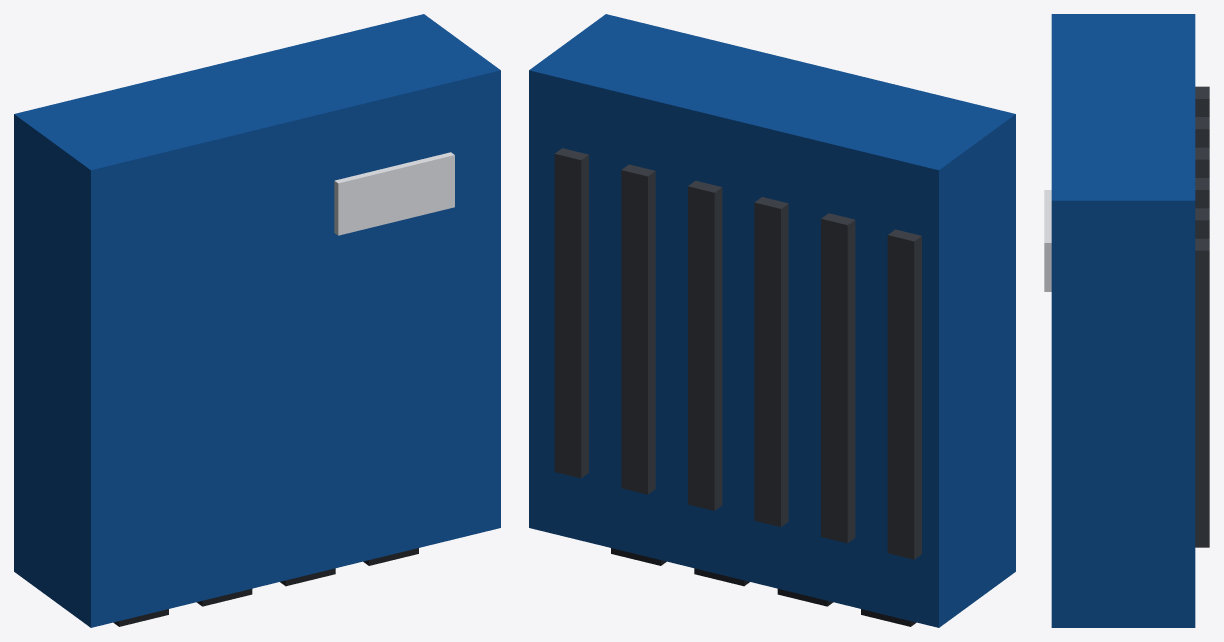
File: victron_orion_xs_12_12_50.far.glb
The picture shows the model from 3 angles, left to right: view 1: azimuth 30°, elevation 25°; view 2: azimuth 150°, elevation 25°; view 3: azimuth 270°, elevation 25°; orthographic projection. The views are drawn at different scales.
Parts seen in each view (by area): view 1: victron_orion_xs_12_12_50; view 2: victron_orion_xs_12_12_50; view 3: victron_orion_xs_12_12_50.
Part boxes in pixels (box(x1,y1,x2,y2)): victron_orion_xs_12_12_50: box(14, 14, 500, 627); victron_orion_xs_12_12_50: box(529, 14, 1015, 627); victron_orion_xs_12_12_50: box(1044, 14, 1209, 627).
Size of the model in its own units: 0.1231 by 0.1373 by 0.046.
